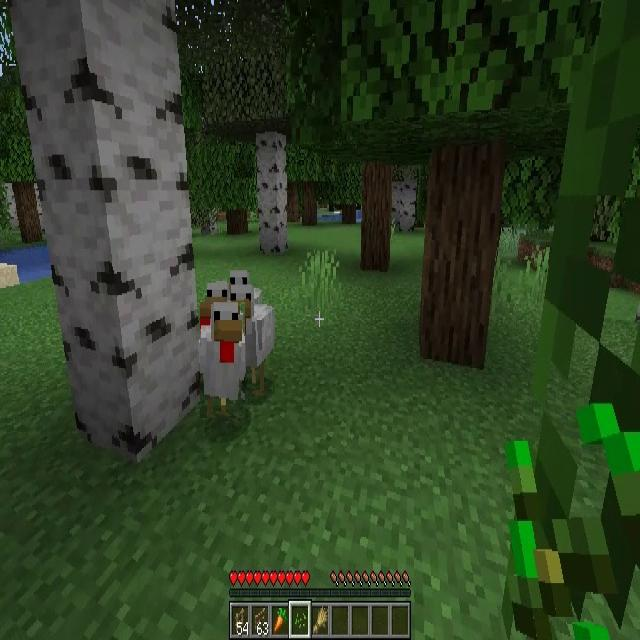duck: (200, 302, 245, 418), (232, 280, 274, 391)
